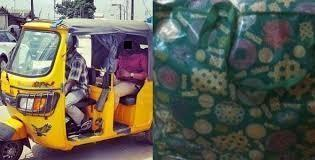keke: (0, 13, 156, 159)
